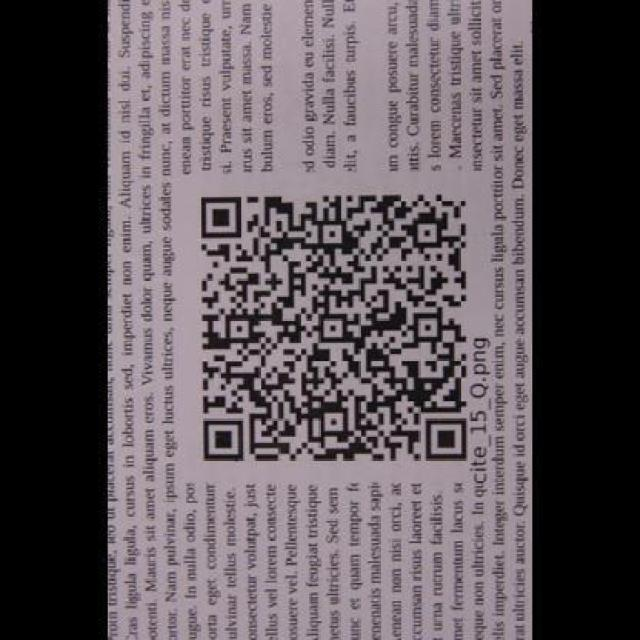QRCode: (195, 189, 472, 465)
